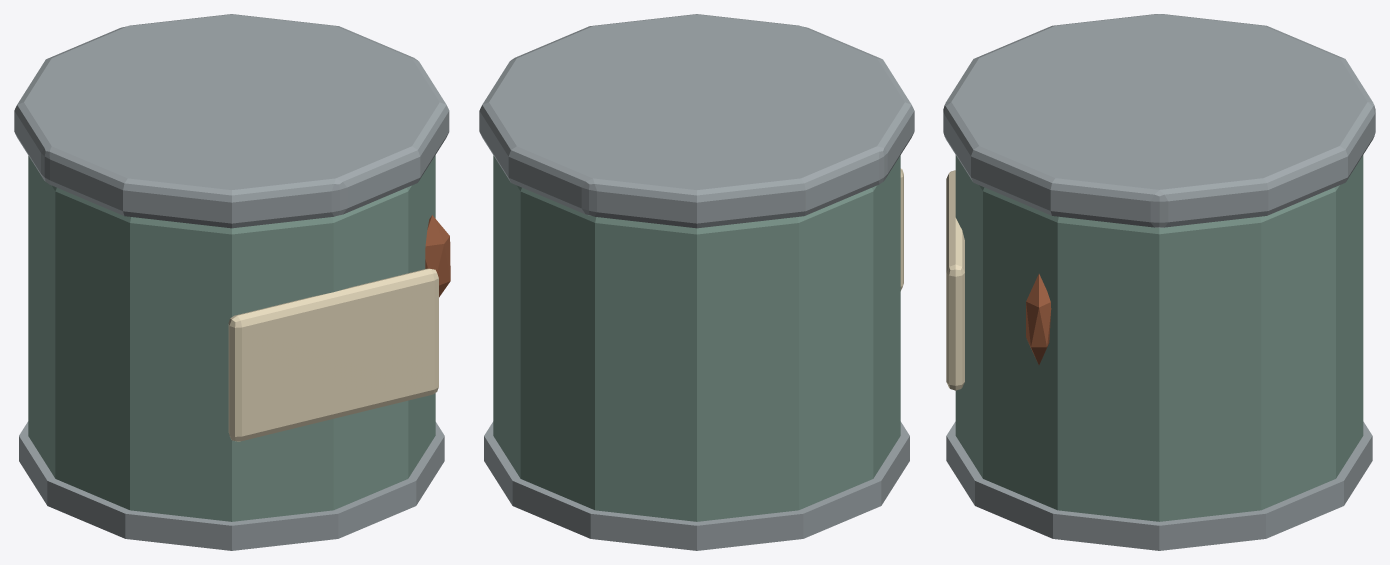
Rendered from item_jackies_tin.glb.
3 views of the same model, side by side, from view 1: azimuth 30°, elevation 25°; view 2: azimuth 150°, elevation 25°; view 3: azimuth 270°, elevation 25° (orthographic).
Parts seen in each view (by area): view 1: Tea tin body, Tea tin lid, Worn label, Tea tin base, Dented side; view 2: Tea tin body, Tea tin lid, Tea tin base; view 3: Tea tin body, Tea tin lid, Tea tin base, Worn label, Dented side.
Boxes of the visible parts, box(x1,y1,x2,y2) form: Tea tin body: box(28, 155, 435, 521); Tea tin lid: box(14, 14, 449, 228); Worn label: box(228, 268, 438, 441); Tea tin base: box(19, 421, 444, 550); Dented side: box(425, 215, 450, 297); Tea tin body: box(493, 155, 900, 521); Tea tin lid: box(479, 14, 914, 228); Tea tin base: box(484, 421, 909, 550); Tea tin body: box(955, 155, 1363, 521); Tea tin lid: box(943, 14, 1375, 227); Tea tin base: box(946, 421, 1372, 550); Worn label: box(946, 170, 964, 390); Dented side: box(1026, 274, 1051, 364).
Size of the model in its own units: 0.0934 by 0.0855 by 0.0934.
